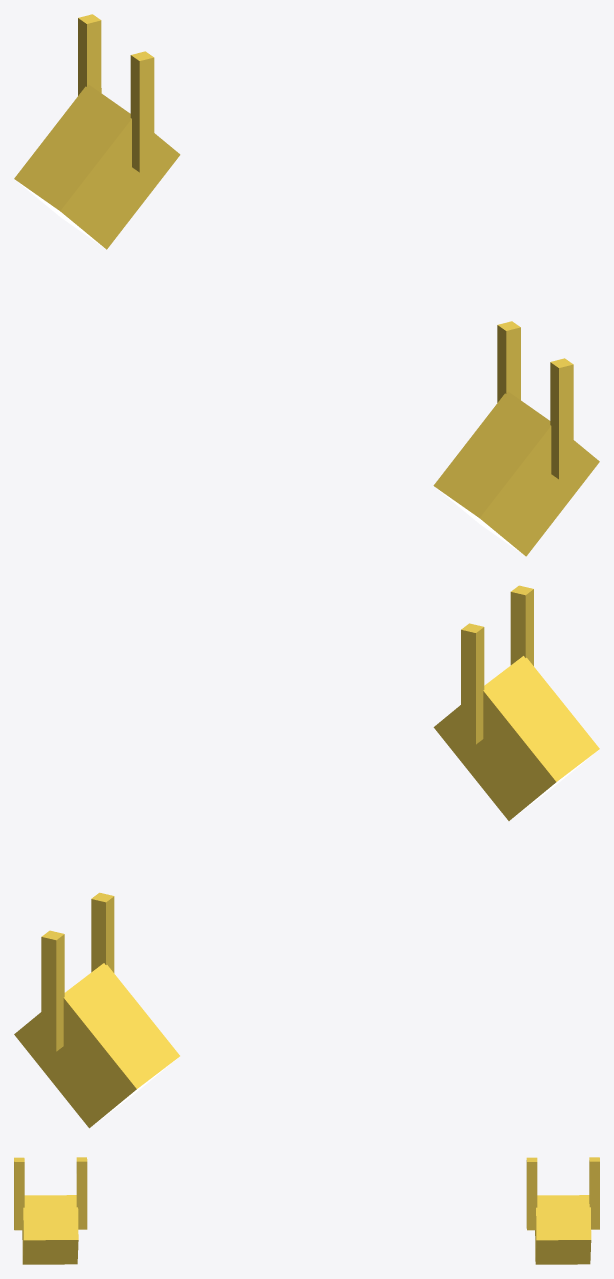
The model's file is lights stairs.glb.
The picture shows the model from 3 angles, top to bottom: view 1: azimuth 30°, elevation 25°; view 2: azimuth 150°, elevation 25°; view 3: azimuth 270°, elevation 25°; orthographic projection. The views are drawn at different scales.
Visible parts, largest first — view 1: discolights stairs; view 2: discolights stairs; view 3: discolights stairs.
Part boxes in pixels (left/top/right/bottom): discolights stairs: left=14, top=14, right=599, bottom=556; discolights stairs: left=14, top=585, right=599, bottom=1128; discolights stairs: left=14, top=1157, right=599, bottom=1264.
Bounding box in the file's own units: 0.6001 × 0.8747 × 4.05.
